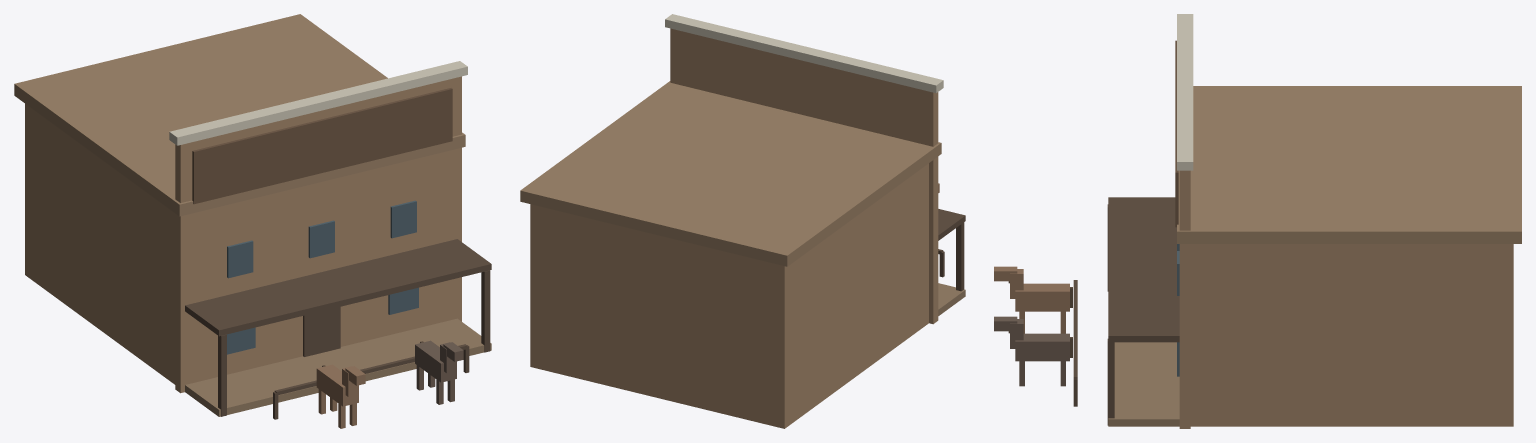
Rendered from w_saloon.glb.
3 renders of one model, left to right at view 1: azimuth 30°, elevation 25°; view 2: azimuth 150°, elevation 25°; view 3: azimuth 270°, elevation 25°, orthographic. The views are drawn at different scales.
Visible parts, largest first — view 1: koerper; view 2: koerper; view 3: koerper.
Part boxes in pixels (x1,y1,x2,y2): koerper: (14, 14, 491, 428); koerper: (520, 14, 965, 428); koerper: (994, 14, 1521, 428).
Size of the model in its own units: 12.8 by 10.85 by 19.28.
